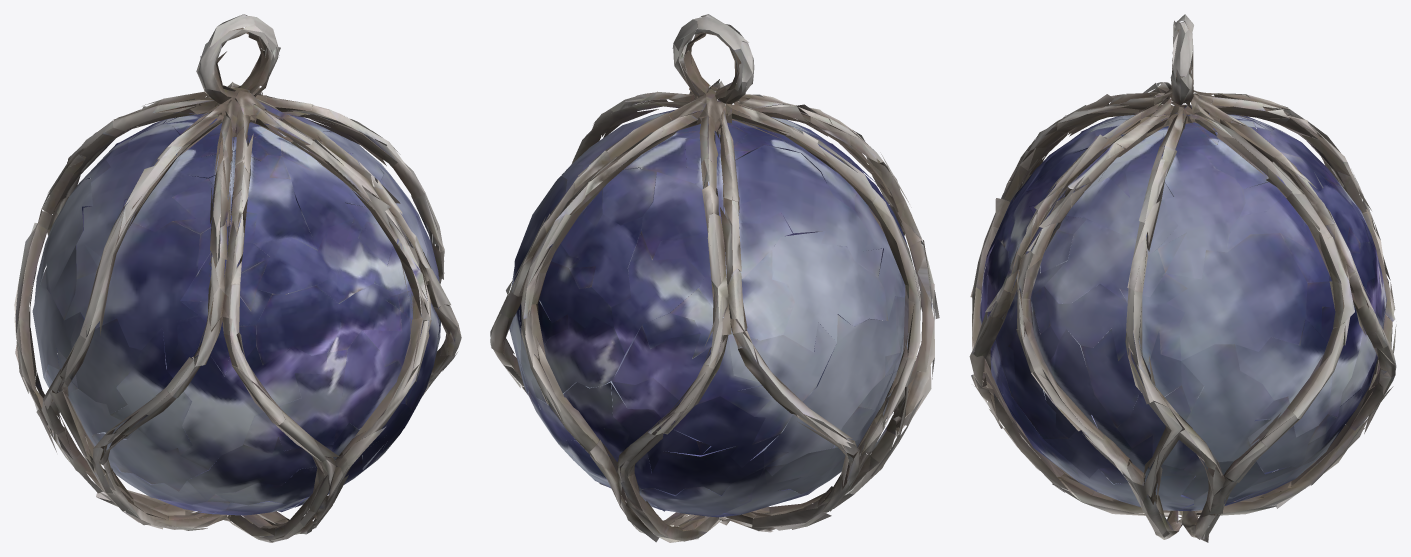
The model's file is storm_marble.glb.
The picture shows the model from 3 angles, left to right: view 1: azimuth 30°, elevation 25°; view 2: azimuth 150°, elevation 25°; view 3: azimuth 270°, elevation 25°; orthographic projection.
Visible parts, largest first — view 1: Mesh_0; view 2: Mesh_0; view 3: Mesh_0.
Boxes of the visible parts, x1,y1,x2,y2 form: Mesh_0: (14,14,461,542); Mesh_0: (490,14,939,542); Mesh_0: (969,14,1396,542).
Size of the model in its own units: 0.6377 by 0.8 by 0.6249.
Materials: 1 (1 with a texture image).
